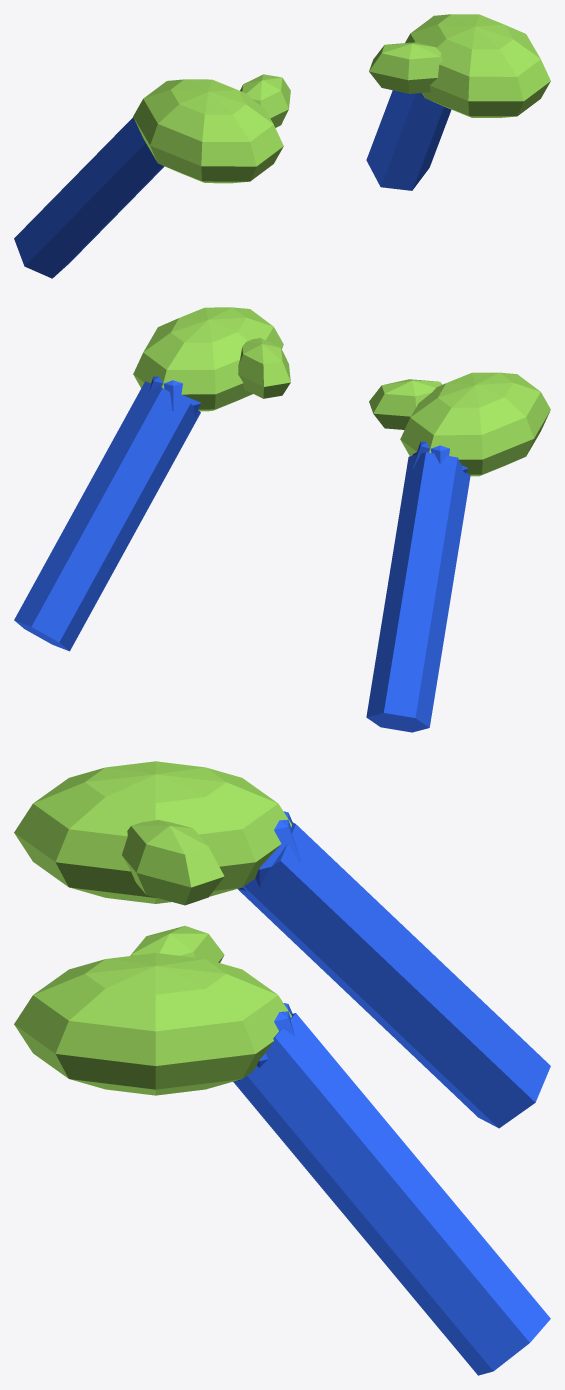
Rendered from cop_hands_2.glb.
3 renders of one model, top to bottom at view 1: azimuth 30°, elevation 25°; view 2: azimuth 150°, elevation 25°; view 3: azimuth 270°, elevation 25°, orthographic. The views are drawn at different scales.
Visible parts, largest first — view 1: hand_skin_lima, arms_shirt; view 2: arms_shirt, hand_skin_lima; view 3: arms_shirt, hand_skin_lima.
Boxes of the visible parts, <box> form: hand_skin_lima: <box>133,14,550,183</box>; arms_shirt: <box>14,90,451,278</box>; arms_shirt: <box>14,376,470,732</box>; hand_skin_lima: <box>133,307,550,476</box>; arms_shirt: <box>233,811,550,1375</box>; hand_skin_lima: <box>14,761,291,1095</box>.
Bounding box in the file's own units: 0.7283 × 0.4397 × 0.5685.
